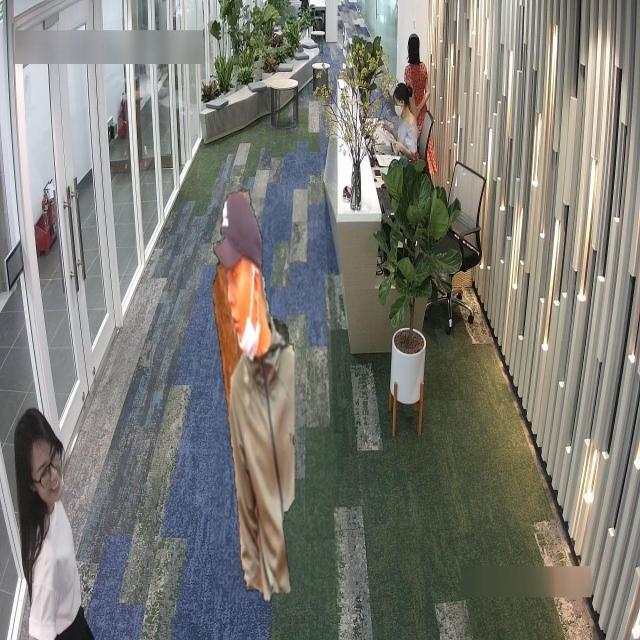hairnet: (227, 272, 260, 358)
